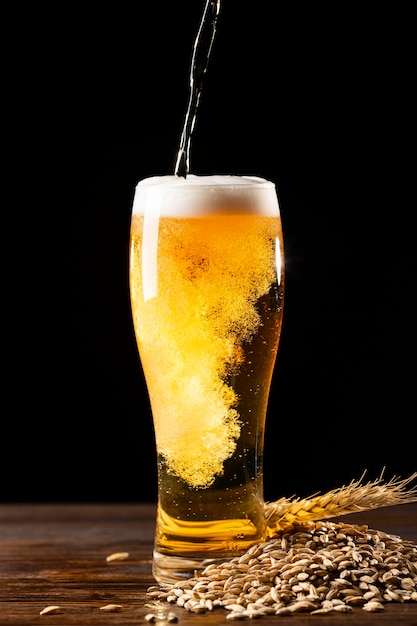alcohol: (125, 166, 290, 595)
